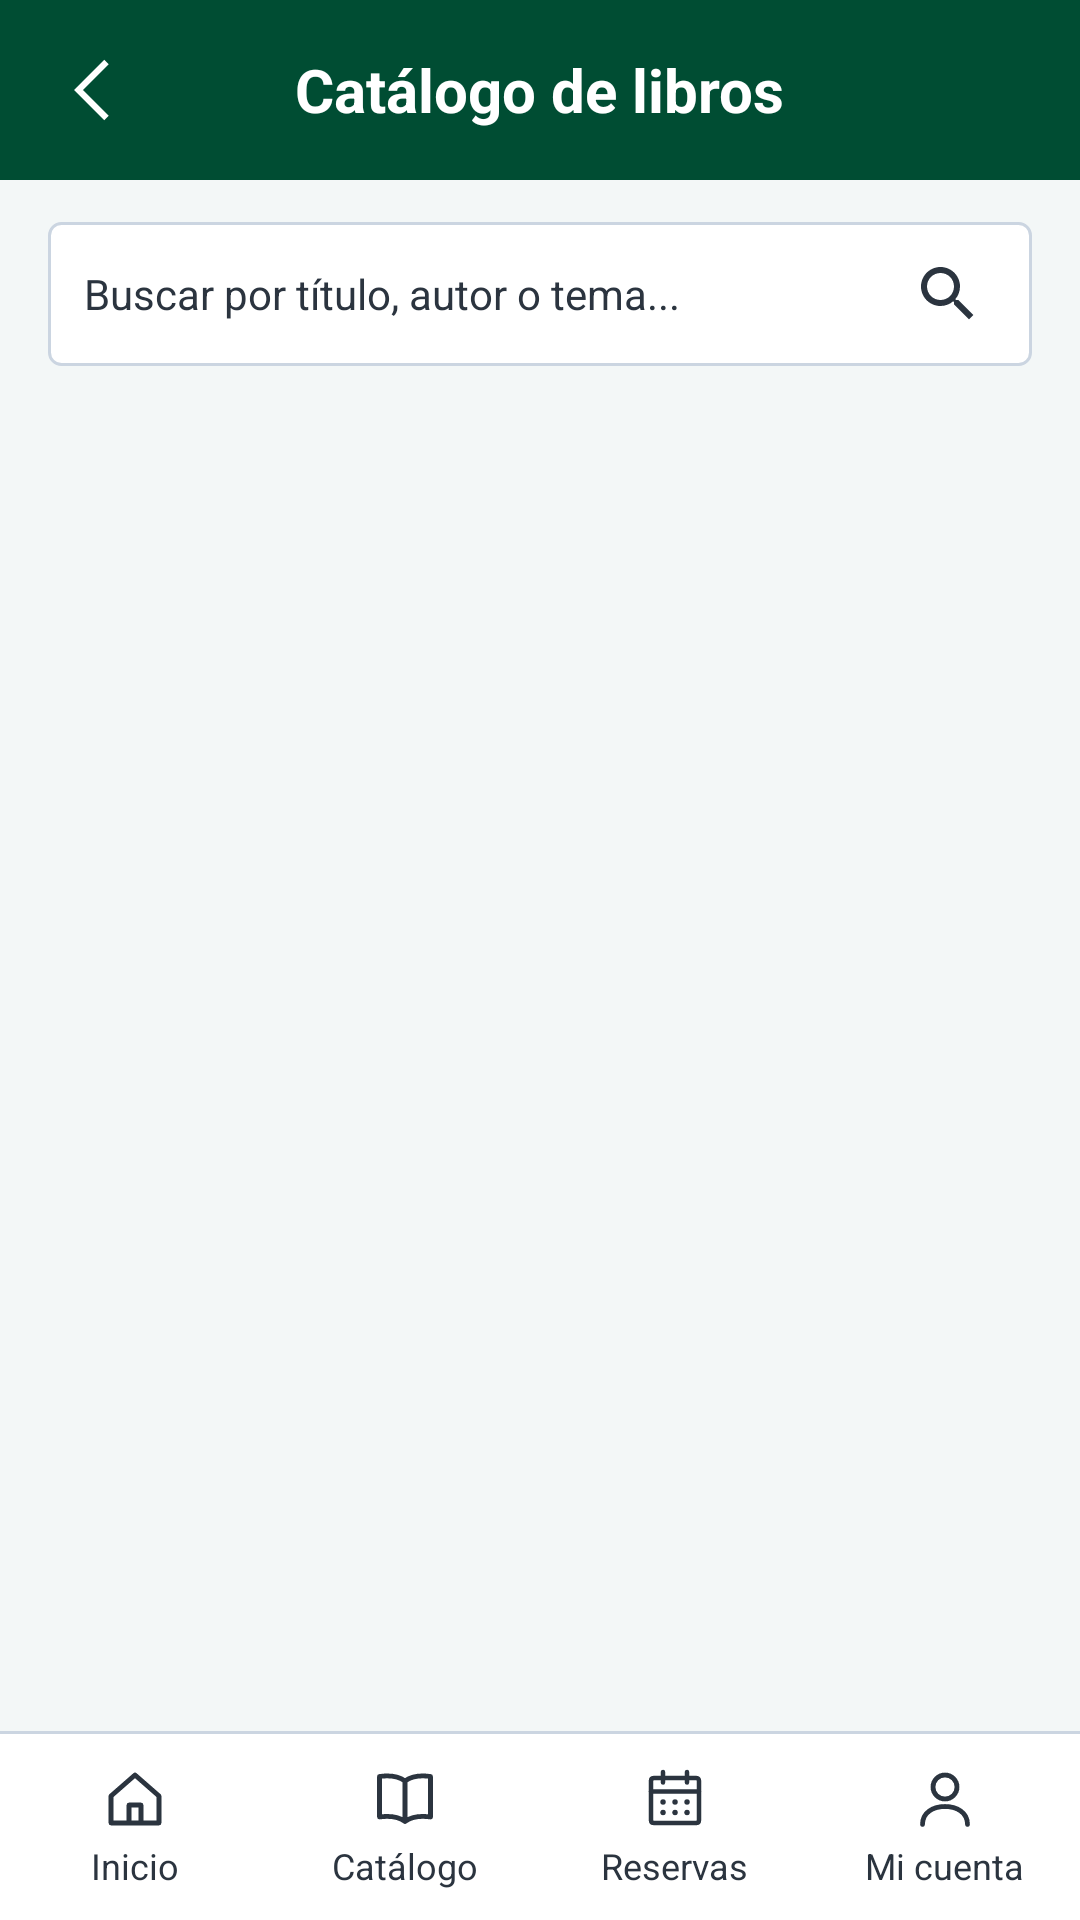

Named icons in this screenshot (1080px x 1920px) and their bounding boxes, box(x1, y1, x2, y2):
cbta calendario: box(648, 1769, 702, 1826)
Volver: box(74, 60, 109, 120)
